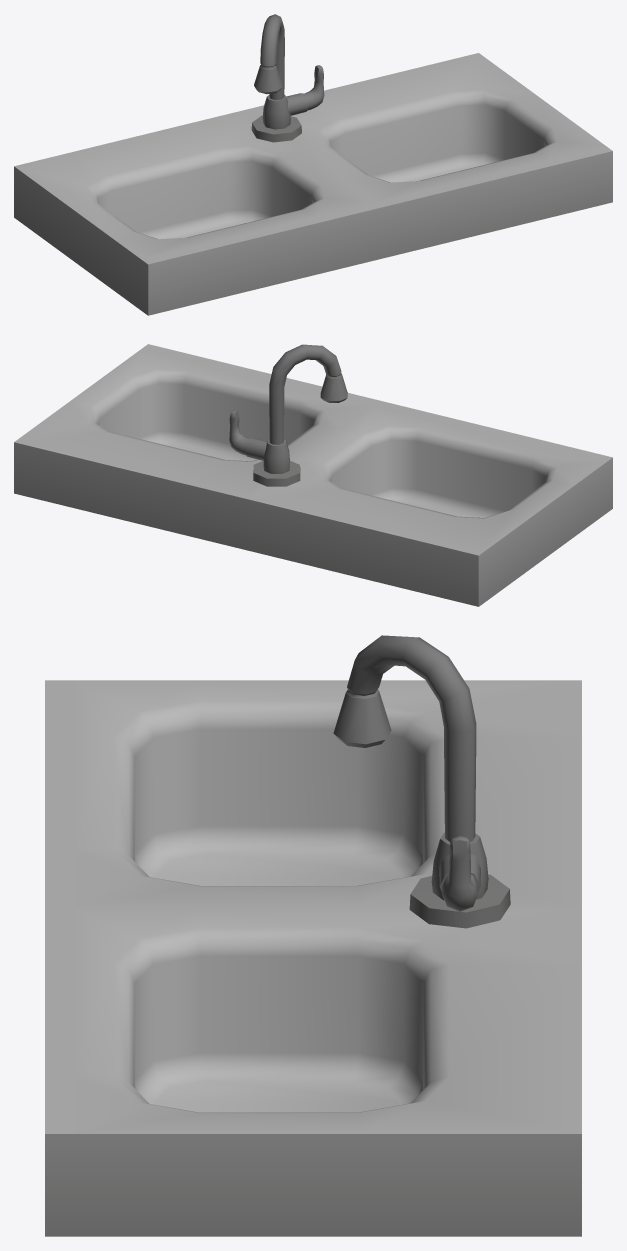
Rendered from Counter_Top_Sink_D_01.fbx.
The picture shows the model from 3 angles, top to bottom: view 1: azimuth 30°, elevation 25°; view 2: azimuth 150°, elevation 25°; view 3: azimuth 270°, elevation 25°; orthographic projection. The views are drawn at different scales.
Parts seen in each view (by area): view 1: Counter_Top_Sink_D_01; view 2: Counter_Top_Sink_D_01; view 3: Counter_Top_Sink_D_01.
Boxes of the visible parts, x1,y1,x2,y2 form: Counter_Top_Sink_D_01: (14, 14, 612, 315); Counter_Top_Sink_D_01: (14, 344, 612, 606); Counter_Top_Sink_D_01: (45, 635, 581, 1236).
Size of the model in its own units: 200 by 80.2 by 100.
